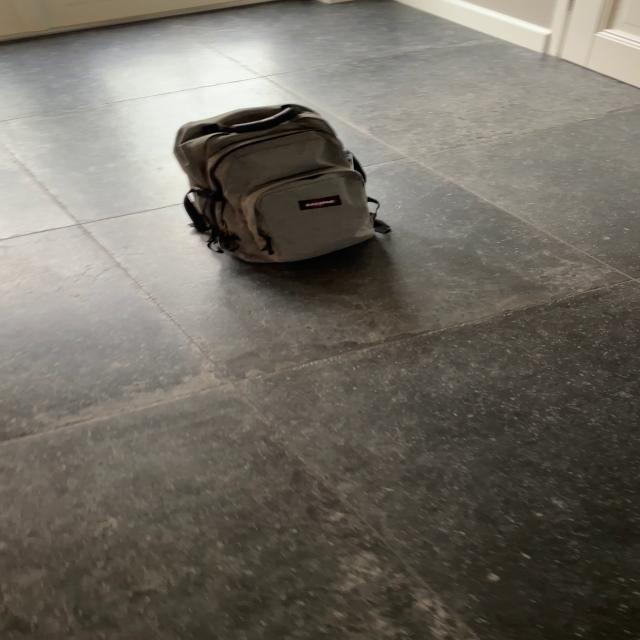backpack: (165, 97, 386, 269)
